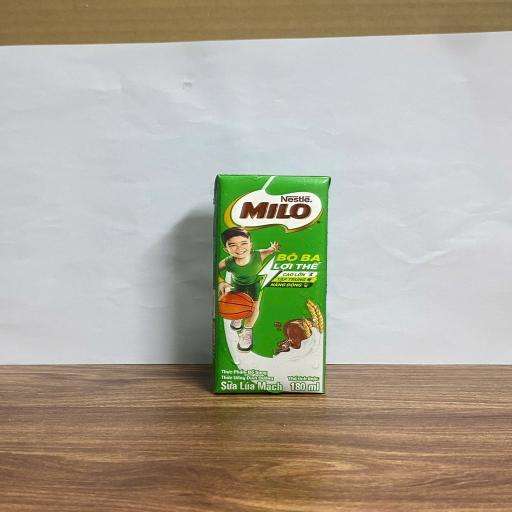milo: (214, 172, 331, 394)
